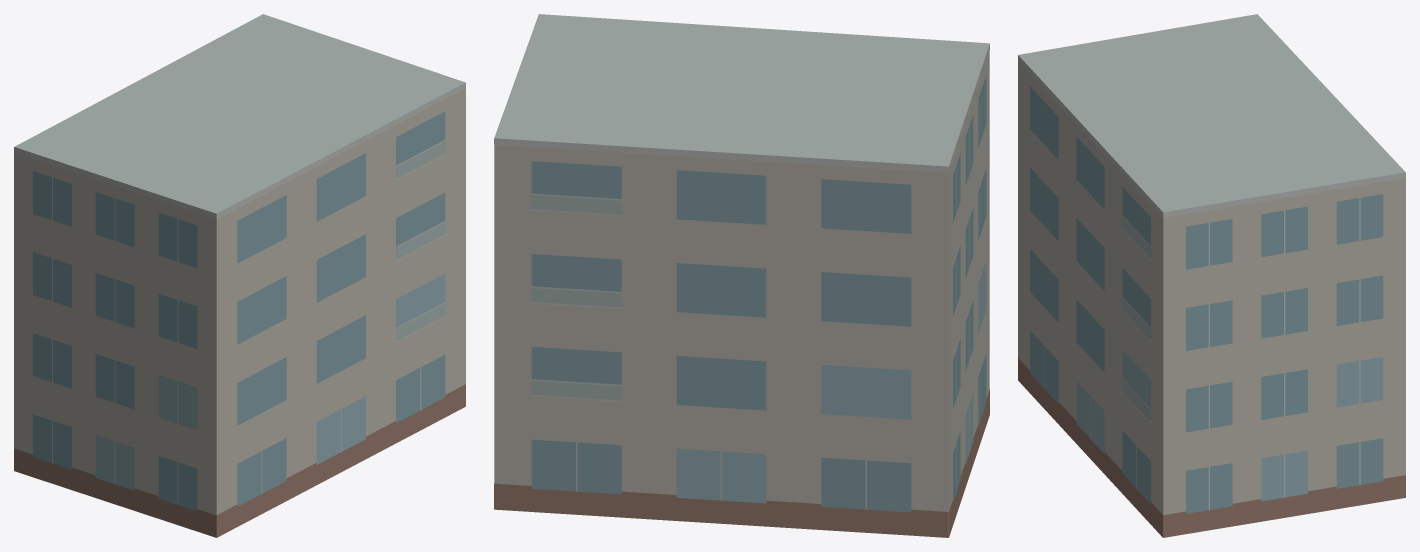
File: survey-upis-32849973.glb
The picture shows the model from 3 angles, left to right: view 1: azimuth 30°, elevation 25°; view 2: azimuth 150°, elevation 25°; view 3: azimuth 270°, elevation 25°; orthographic projection. The views are drawn at different scales.
Visible parts, largest first — view 1: survey-upis-32849973.tmp; view 2: survey-upis-32849973.tmp; view 3: survey-upis-32849973.tmp.
Part boxes in pixels (left/top/right/bottom): survey-upis-32849973.tmp: left=14, top=14, right=465, bottom=537; survey-upis-32849973.tmp: left=494, top=14, right=989, bottom=537; survey-upis-32849973.tmp: left=1018, top=14, right=1405, bottom=537.
Bounding box in the file's own units: 18.44 × 14.1 × 15.23.
